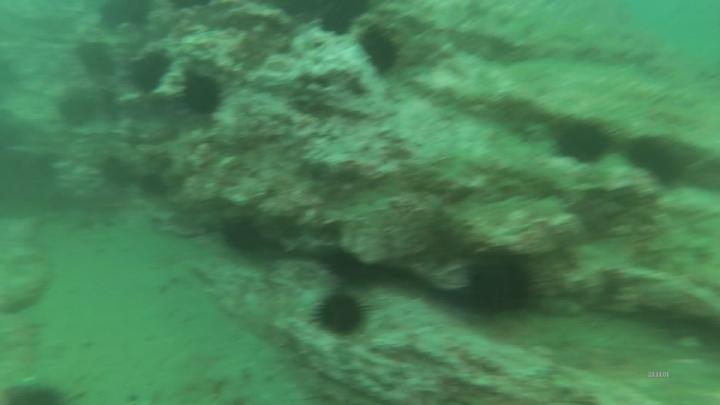echinus: (463, 246, 538, 320), (552, 114, 617, 165), (179, 65, 229, 121), (362, 23, 409, 77), (319, 288, 366, 341), (217, 216, 275, 258), (123, 53, 171, 99), (75, 41, 126, 79), (53, 87, 100, 126)
